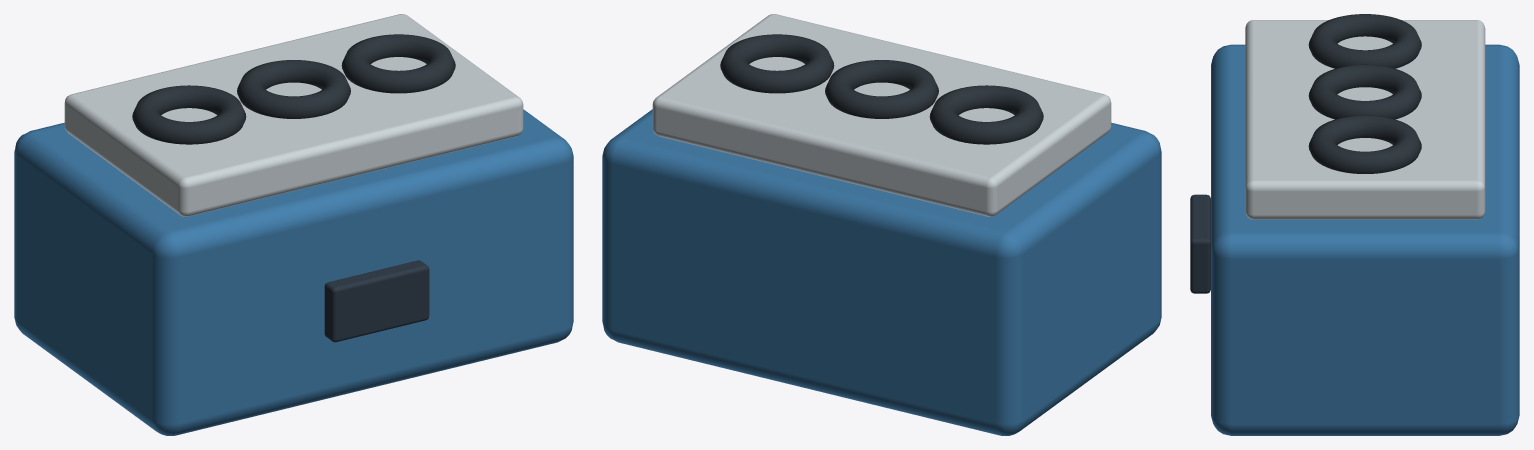
Rendered from squash-club-and-racket-workshop-ball-warmer-20dbd529__29752.glb.
The picture shows the model from 3 angles, left to right: view 1: azimuth 30°, elevation 25°; view 2: azimuth 150°, elevation 25°; view 3: azimuth 270°, elevation 25°; orthographic projection.
Parts seen in each view (by area): view 1: ball-warmer; view 2: ball-warmer; view 3: ball-warmer.
Boxes of the visible parts, x1=… form: ball-warmer: x1=14, y1=14, x2=573, y2=435; ball-warmer: x1=602, y1=14, x2=1161, y2=435; ball-warmer: x1=1190, y1=14, x2=1519, y2=435.
Bounding box in the file's own units: 0.28 × 0.166 × 0.192.
